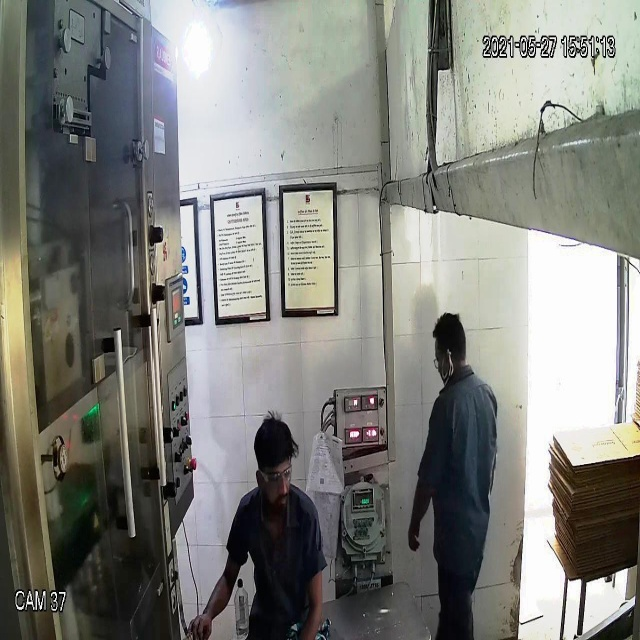Gafas: (248, 453, 295, 492)
